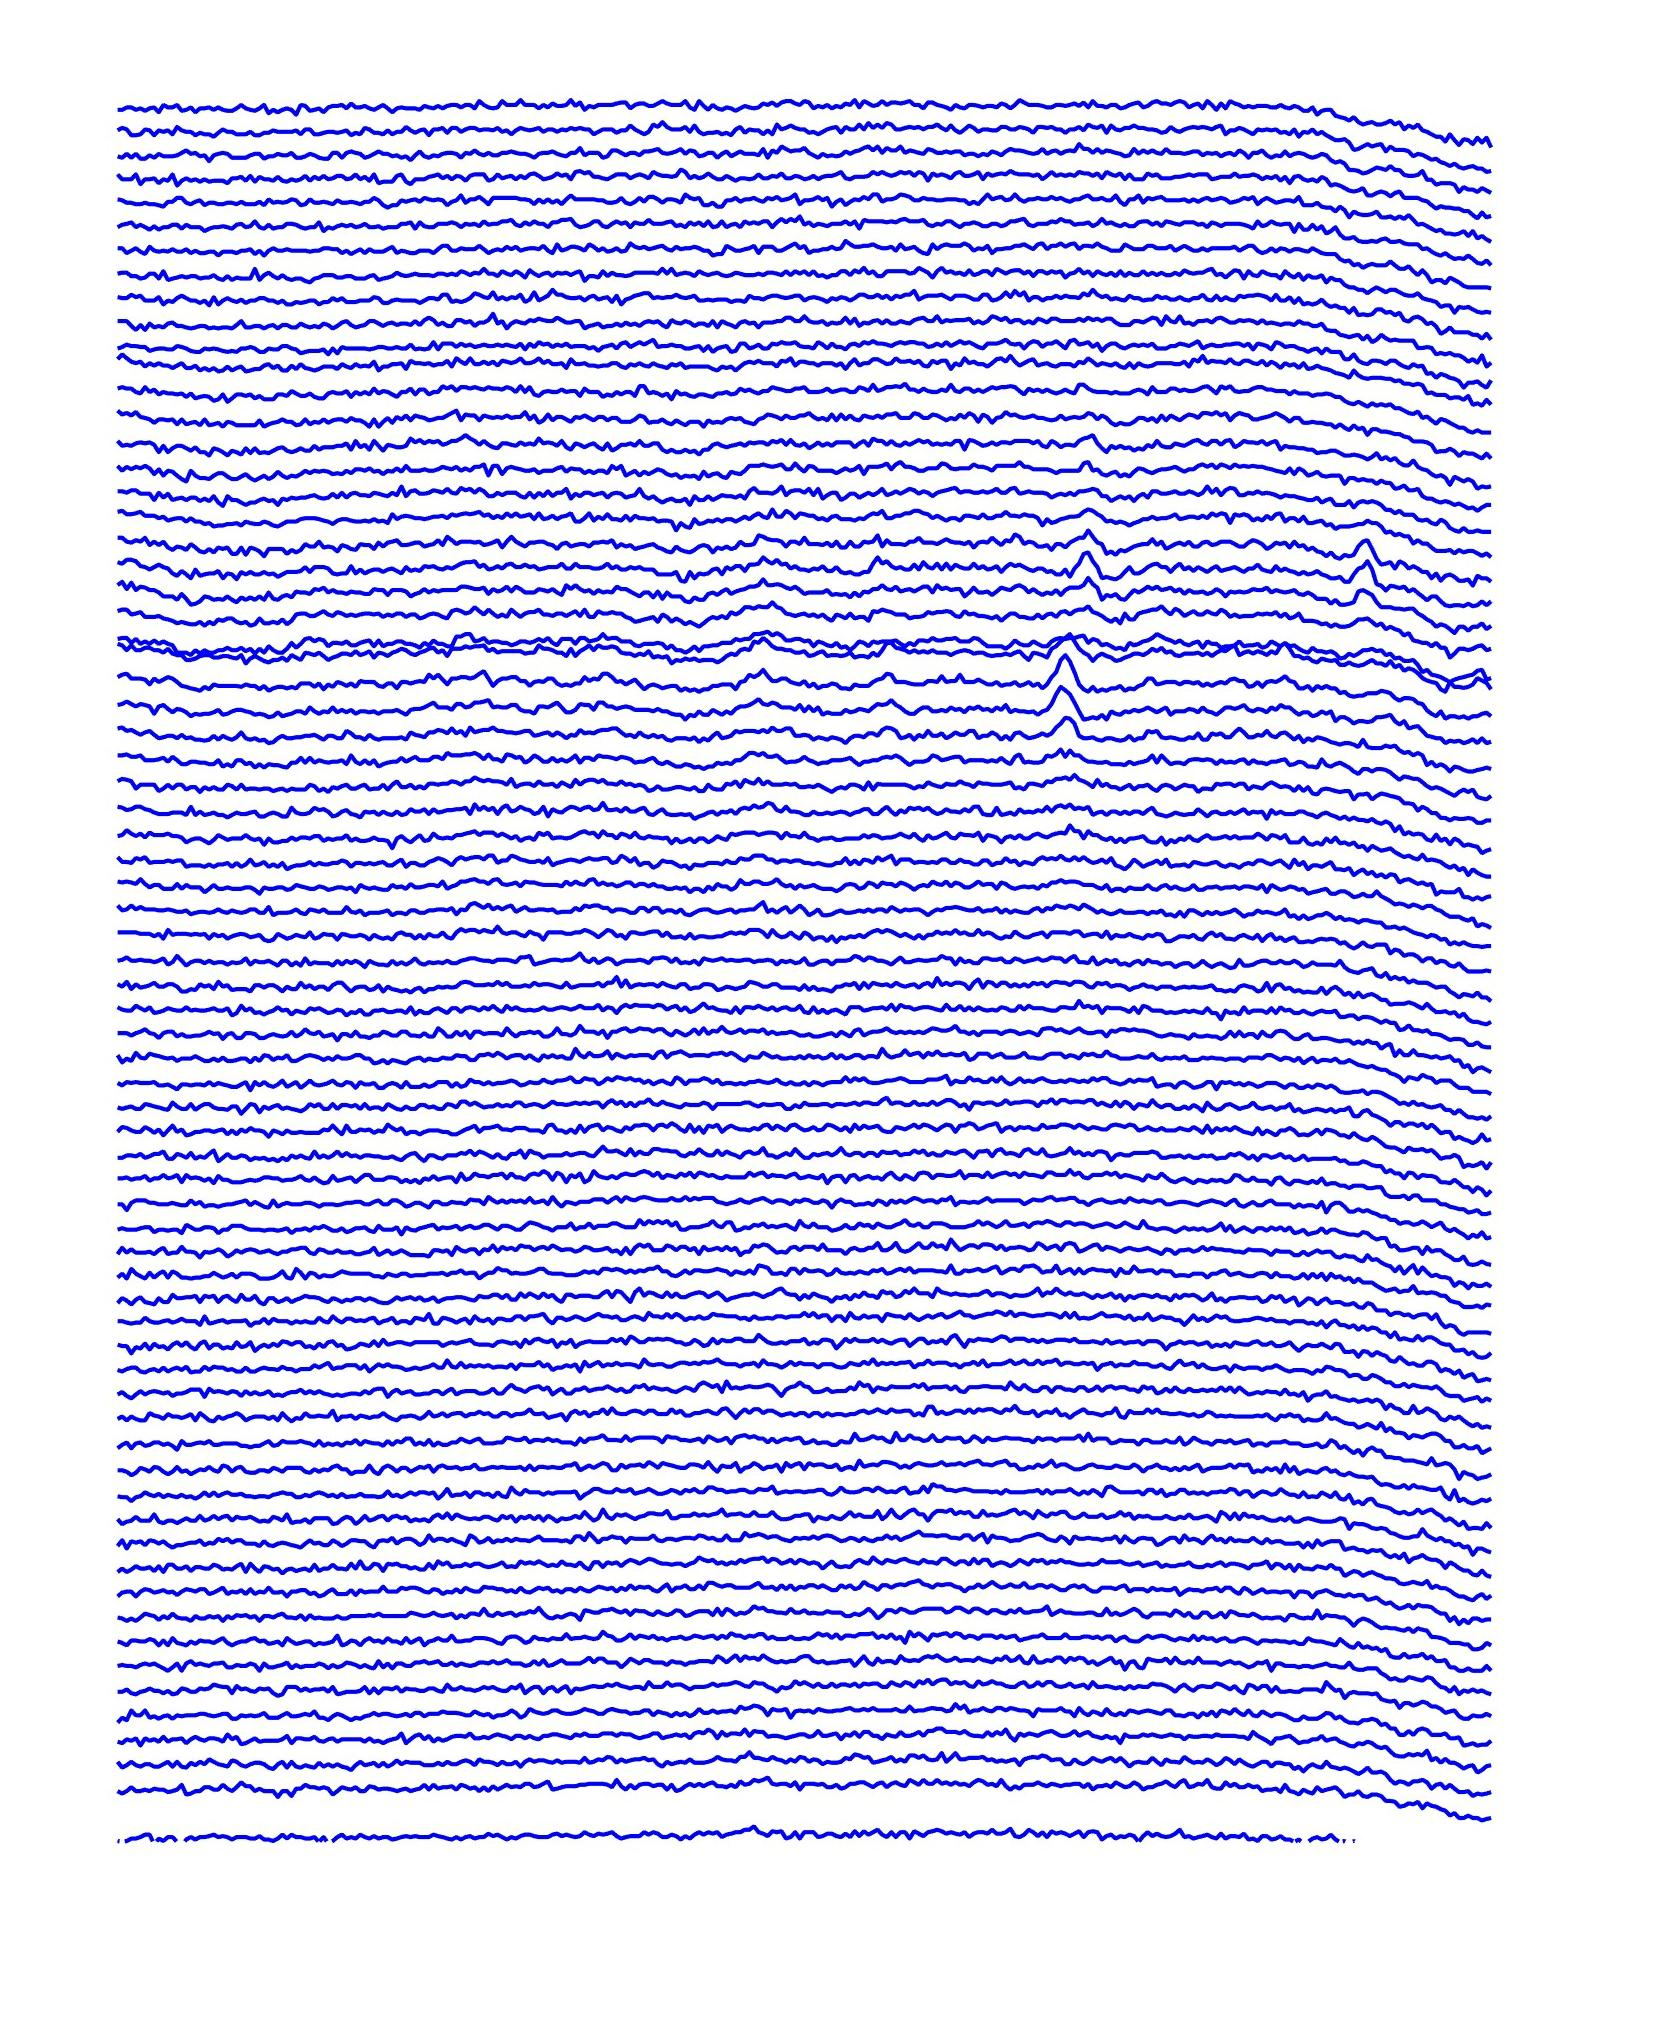defect: (1312, 519, 1384, 633), (1025, 632, 1091, 753), (1064, 519, 1111, 611)
